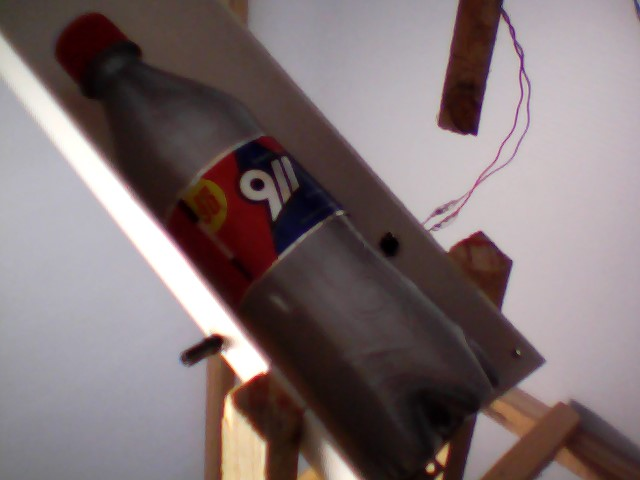plastico: (48, 10, 504, 480)
